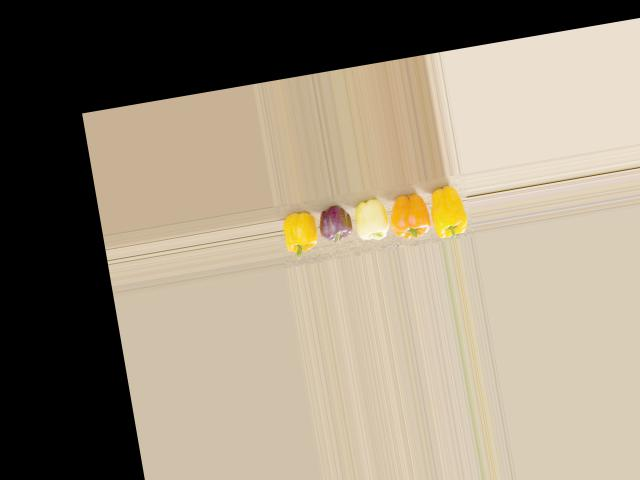bell_pepper: (275, 202, 318, 262)
